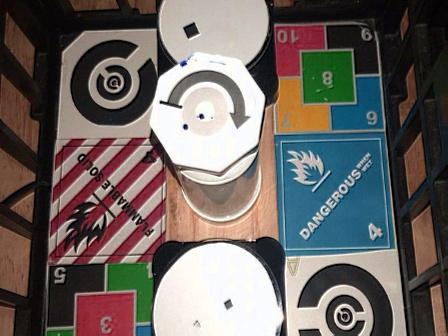dangerous-when-wet: (275, 129, 396, 255)
flammable-solid: (49, 135, 167, 264)
